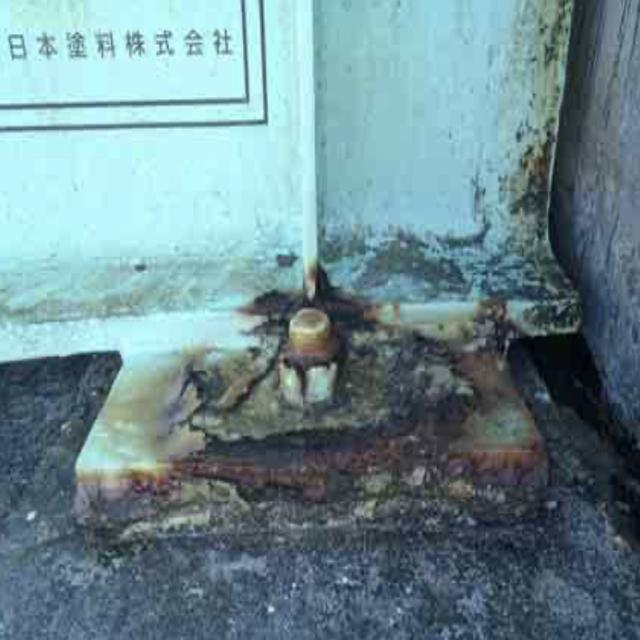corrosion: (94, 289, 629, 554)
